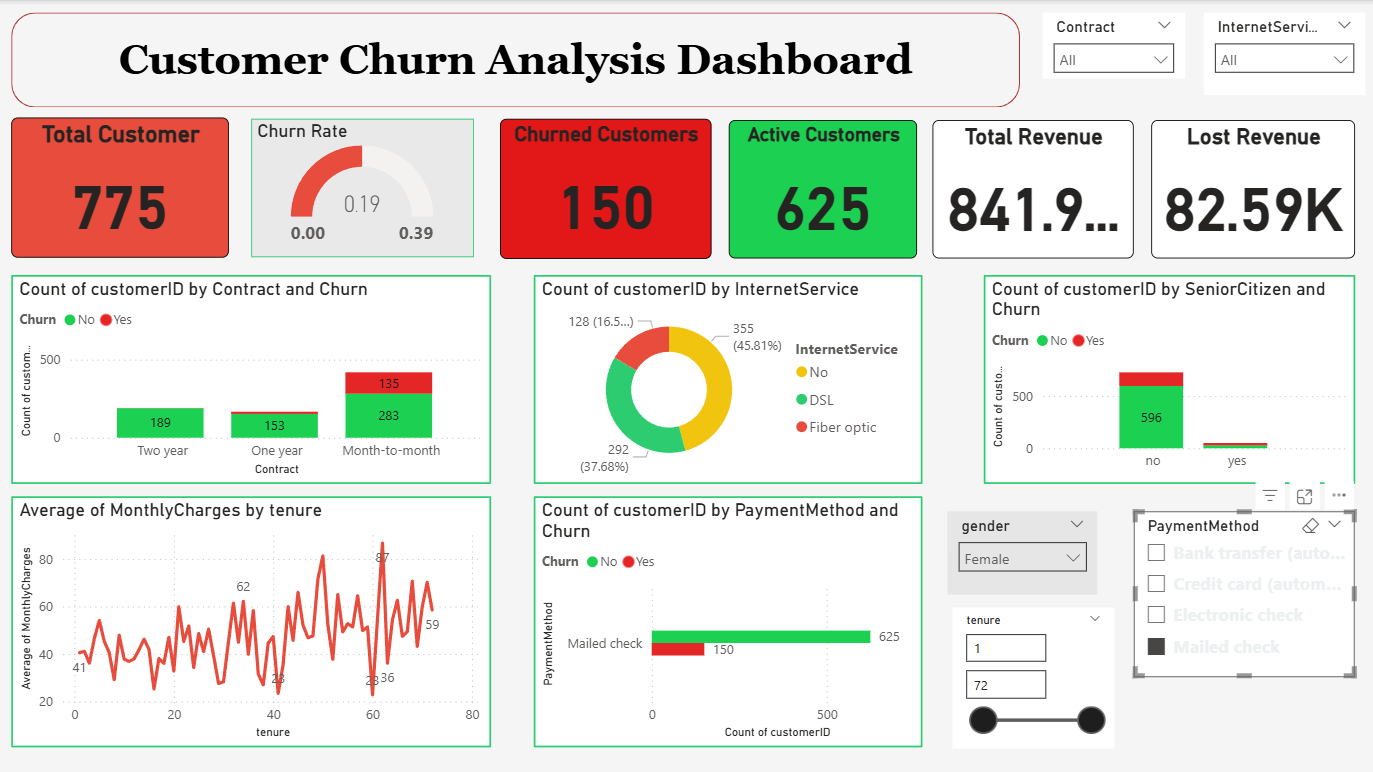

Layout of this report page (visuals, bound fields, positions):
{"tool":"powerbi","page":{"name":"Page 1","canvas":[1280,720],"ordinal":0},"visuals":[{"type":"card","title":"Total Customer ","fields":{"Values":["WA_Fn-UseC_-Telco-Customer-Churn (1).Total Customers"]},"box":[10.5,109.3,202.3,130.2],"z":0},{"type":"card","title":"Churned Customers","fields":{"Values":["WA_Fn-UseC_-Telco-Customer-Churn (1).Churned Customers"]},"box":[465.1,110.5,196.5,130.2],"z":1000},{"type":"card","title":"Active Customers","fields":{"Values":["WA_Fn-UseC_-Telco-Customer-Churn (1).Active Customers"]},"box":[677.9,111.6,175.6,129.1],"z":2000},{"type":"gauge","fields":{"Y":["WA_Fn-UseC_-Telco-Customer-Churn (1).Churn Rate"]},"box":[233.7,110.5,207,129.1],"z":3000},{"type":"card","title":"Total Revenue","fields":{"Values":["WA_Fn-UseC_-Telco-Customer-Churn (1).Total Revenue"]},"box":[867.4,111.6,187.2,129.1],"z":4000},{"type":"card","title":"Lost Revenue","fields":{"Values":["WA_Fn-UseC_-Telco-Customer-Churn (1).Lost Revenue"]},"box":[1070.9,111.6,189.5,129.1],"z":5000},{"type":"columnChart","fields":{"Category":["WA_Fn-UseC_-Telco-Customer-Churn (1).Contract"],"Series":["WA_Fn-UseC_-Telco-Customer-Churn (1).Churn"],"Y":["CountNonNull(WA_Fn-UseC_-Telco-Customer-Churn (1).customerID)"]},"box":[10.5,255.8,446.5,194.2],"z":6000},{"type":"donutChart","fields":{"Category":["WA_Fn-UseC_-Telco-Customer-Churn (1).InternetService"],"Y":["CountNonNull(WA_Fn-UseC_-Telco-Customer-Churn (1).customerID)"]},"box":[496.5,255.8,361.6,194.2],"z":7000},{"type":"lineChart","fields":{"Category":["WA_Fn-UseC_-Telco-Customer-Churn (1).tenure"],"Y":["Avg(WA_Fn-UseC_-Telco-Customer-Churn (1).MonthlyCharges)"]},"box":[10.5,461.6,446.5,233.7],"z":8000},{"type":"clusteredBarChart","fields":{"Category":["WA_Fn-UseC_-Telco-Customer-Churn (1).PaymentMethod"],"Y":["CountNonNull(WA_Fn-UseC_-Telco-Customer-Churn (1).customerID)"],"Series":["WA_Fn-UseC_-Telco-Customer-Churn (1).Churn"]},"box":[496.5,461.6,361.6,233.7],"z":9000},{"type":"columnChart","fields":{"Category":["WA_Fn-UseC_-Telco-Customer-Churn (1).SeniorCitizen"],"Y":["CountNonNull(WA_Fn-UseC_-Telco-Customer-Churn (1).customerID)"],"Series":["WA_Fn-UseC_-Telco-Customer-Churn (1).Churn"]},"box":[915.1,255.8,345.3,194.2],"z":10000},{"type":"slicer","fields":{"Values":["WA_Fn-UseC_-Telco-Customer-Churn (1).gender"]},"box":[881.4,475.6,139.5,77.9],"z":11000},{"type":"slicer","fields":{"Values":["WA_Fn-UseC_-Telco-Customer-Churn (1).Contract"]},"box":[969.8,11.6,132.6,61.6],"z":12000},{"type":"slicer","fields":{"Values":["WA_Fn-UseC_-Telco-Customer-Churn (1).InternetService"]},"box":[1119.8,11.6,150,76.7],"z":13000},{"type":"shape","box":[10.5,11.6,938.4,88.4],"z":14000},{"type":"slicer","fields":{"Values":["WA_Fn-UseC_-Telco-Customer-Churn (1).PaymentMethod"]},"box":[1054.7,475.6,205.8,154.7],"z":15000},{"type":"slicer","fields":{"Values":["WA_Fn-UseC_-Telco-Customer-Churn (1).tenure"]},"box":[886,565.1,150,130.2],"z":16000}]}

Visuals, with their boxes in screenshot pixels (x1, y1, x2, y2), scaled from the page's 1280x720 canvas onto the 1373x772 screenshot:
"Total Customer " card: bbox=[11, 117, 228, 257]
"Churned Customers" card: bbox=[499, 118, 710, 258]
"Active Customers" card: bbox=[727, 120, 916, 258]
gauge - WA_Fn-UseC_-Telco-Customer-Churn (1).Churn Rate: bbox=[251, 118, 473, 257]
"Total Revenue" card: bbox=[930, 120, 1131, 258]
"Lost Revenue" card: bbox=[1149, 120, 1352, 258]
columnChart - WA_Fn-UseC_-Telco-Customer-Churn (1).Contract x WA_Fn-UseC_-Telco-Customer-Churn (1).Churn: bbox=[11, 274, 490, 482]
donutChart - WA_Fn-UseC_-Telco-Customer-Churn (1).InternetService x CountNonNull(WA_Fn-UseC_-Telco-Customer-Churn (1).customerID): bbox=[533, 274, 920, 482]
lineChart - WA_Fn-UseC_-Telco-Customer-Churn (1).tenure x Avg(WA_Fn-UseC_-Telco-Customer-Churn (1).MonthlyCharges): bbox=[11, 495, 490, 746]
clusteredBarChart - WA_Fn-UseC_-Telco-Customer-Churn (1).PaymentMethod x CountNonNull(WA_Fn-UseC_-Telco-Customer-Churn (1).customerID): bbox=[533, 495, 920, 746]
columnChart - WA_Fn-UseC_-Telco-Customer-Churn (1).SeniorCitizen x CountNonNull(WA_Fn-UseC_-Telco-Customer-Churn (1).customerID): bbox=[982, 274, 1352, 482]
slicer - WA_Fn-UseC_-Telco-Customer-Churn (1).gender: bbox=[945, 510, 1095, 593]
slicer - WA_Fn-UseC_-Telco-Customer-Churn (1).Contract: bbox=[1040, 12, 1182, 78]
slicer - WA_Fn-UseC_-Telco-Customer-Churn (1).InternetService: bbox=[1201, 12, 1362, 95]
shape: bbox=[11, 12, 1018, 107]
slicer - WA_Fn-UseC_-Telco-Customer-Churn (1).PaymentMethod: bbox=[1131, 510, 1352, 676]
slicer - WA_Fn-UseC_-Telco-Customer-Churn (1).tenure: bbox=[950, 606, 1111, 746]
